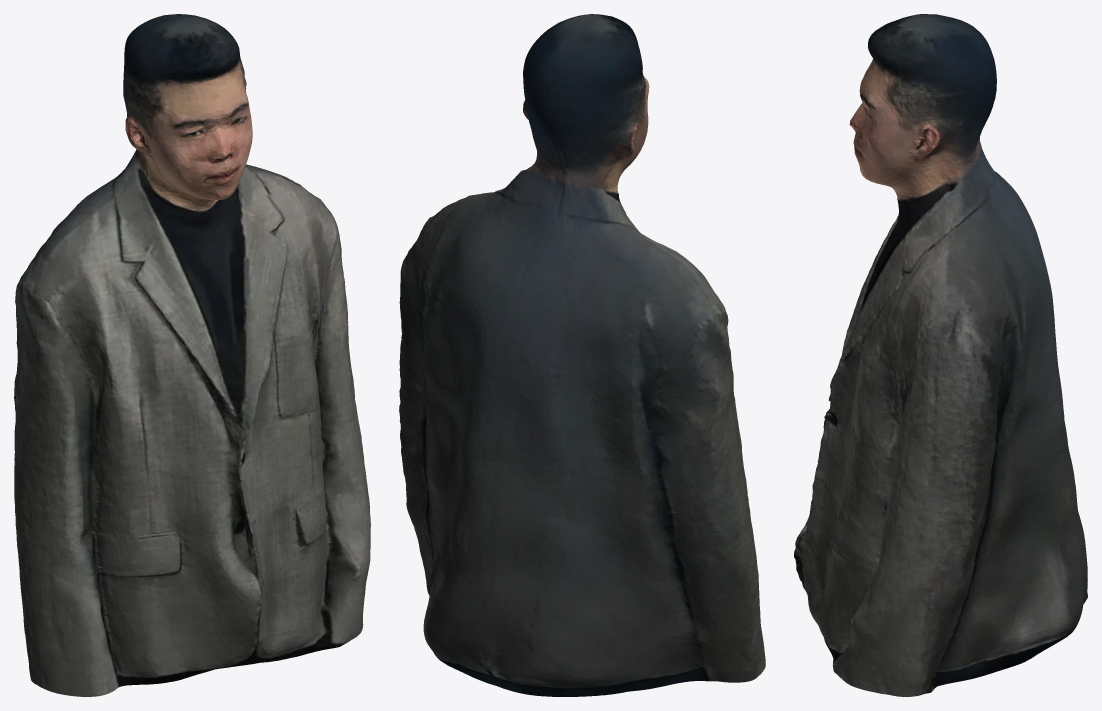
Rendered from eigo.glb.
3 views of the same model, side by side, from view 1: azimuth 30°, elevation 25°; view 2: azimuth 150°, elevation 25°; view 3: azimuth 270°, elevation 25° (orthographic). The views are drawn at different scales.
Parts seen in each view (by area): view 1: Mesh_0; view 2: Mesh_0; view 3: Mesh_0.
Boxes of the visible parts, <box> form: Mesh_0: <box>14,14,370,696</box>; Mesh_0: <box>399,14,765,696</box>; Mesh_0: <box>794,14,1087,696</box>.
Bounding box in the file's own units: 0.3083 × 0.5446 × 0.2418.
1 material, 1 textured.
